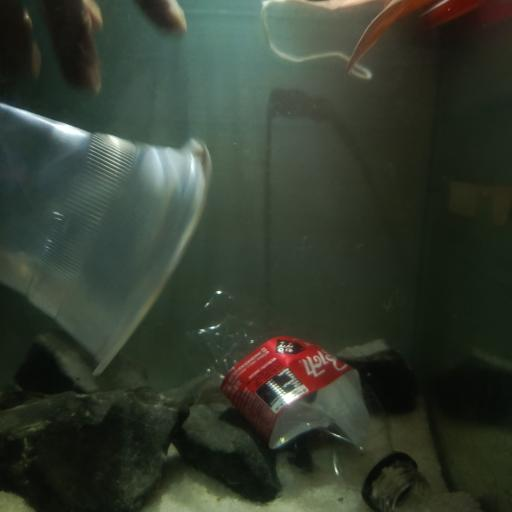mask: (262, 0, 512, 87)
plastic_bottle: (189, 285, 426, 512)
plastic_cup: (4, 100, 208, 373)
